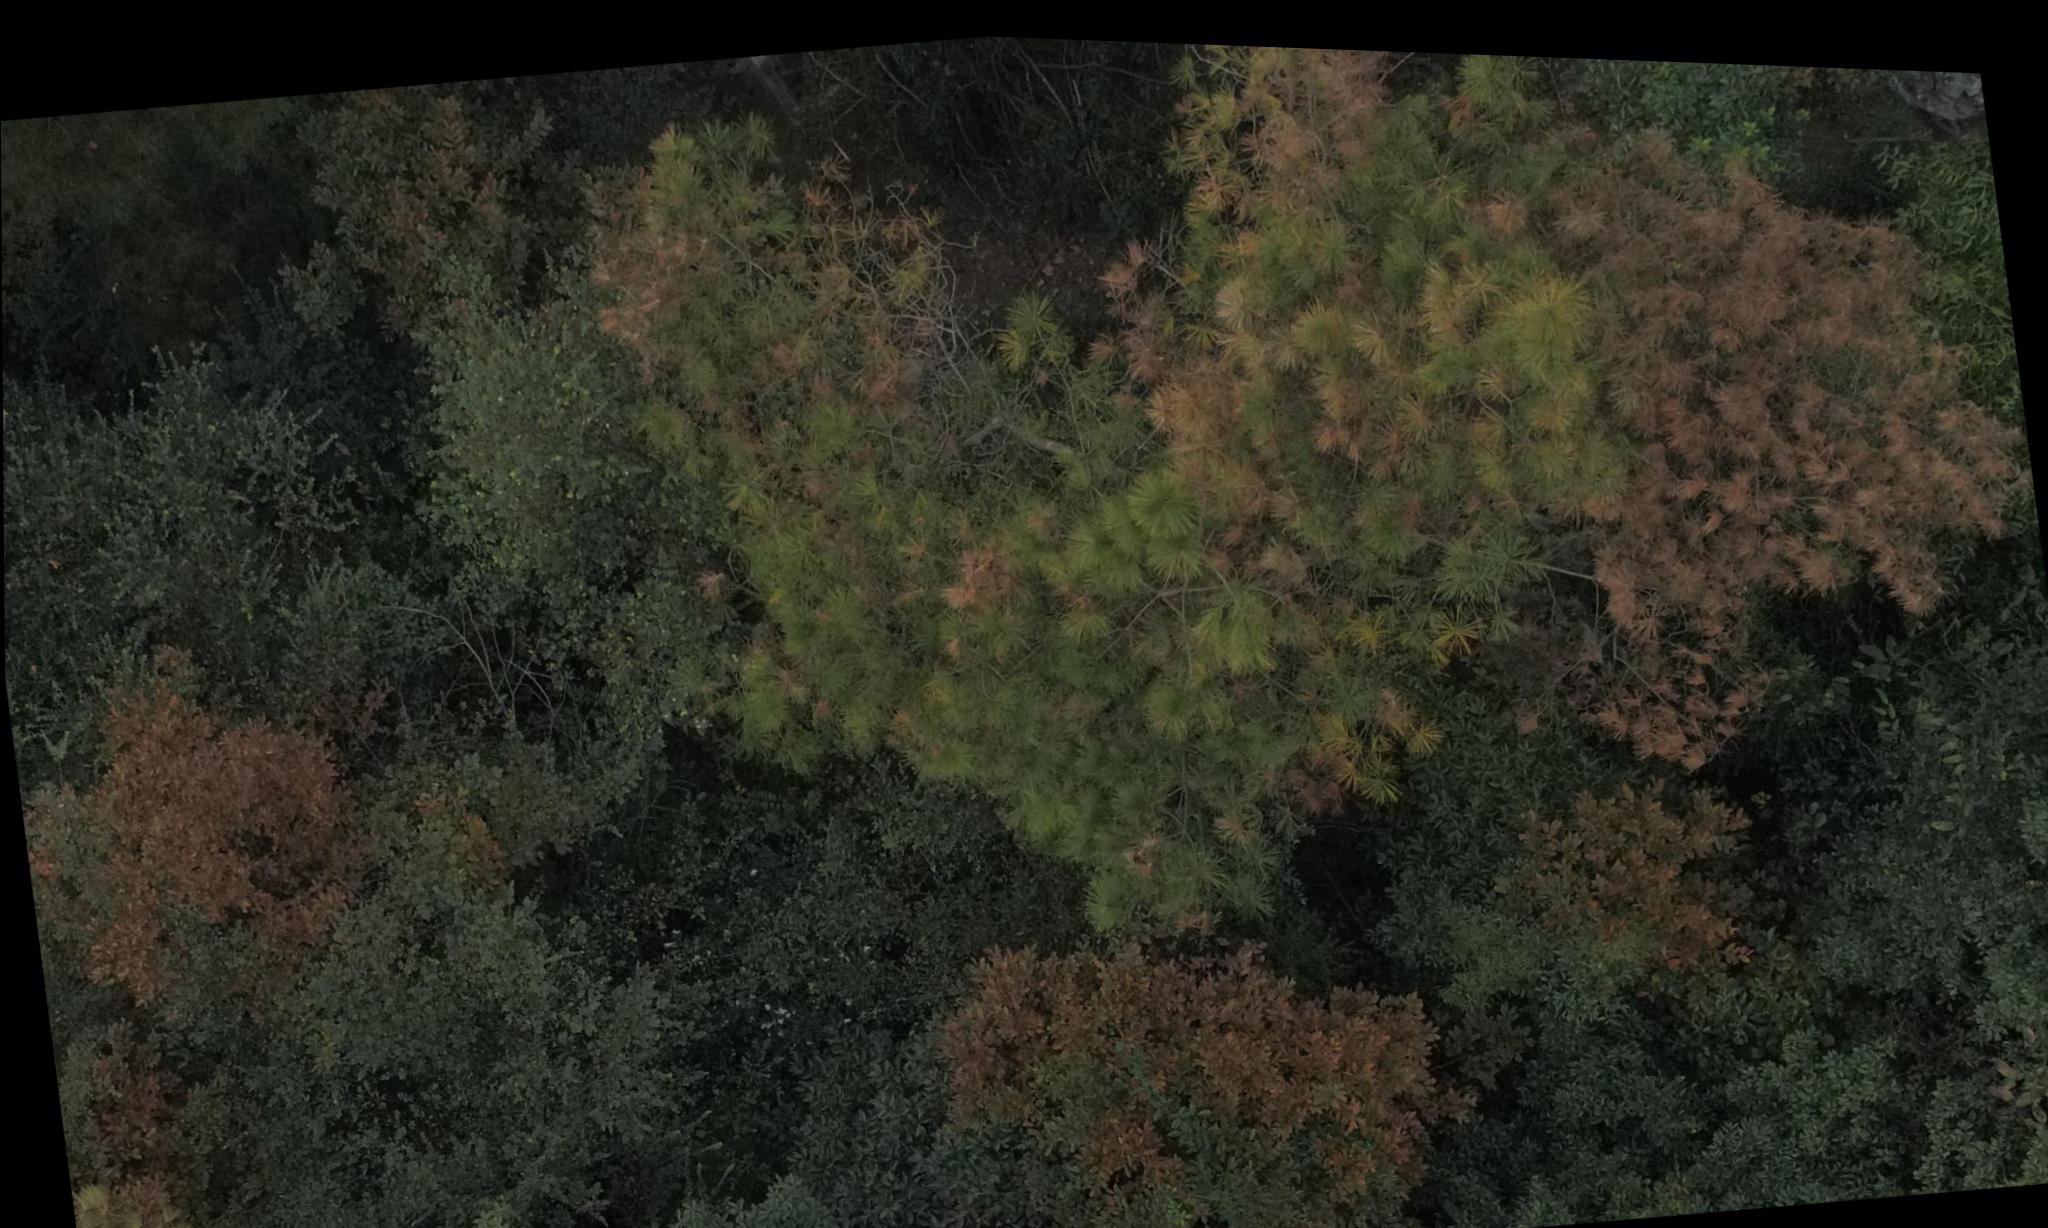heavy: (1569, 92, 2036, 741)
light: (570, 16, 1621, 979), (83, 1151, 292, 1228)
